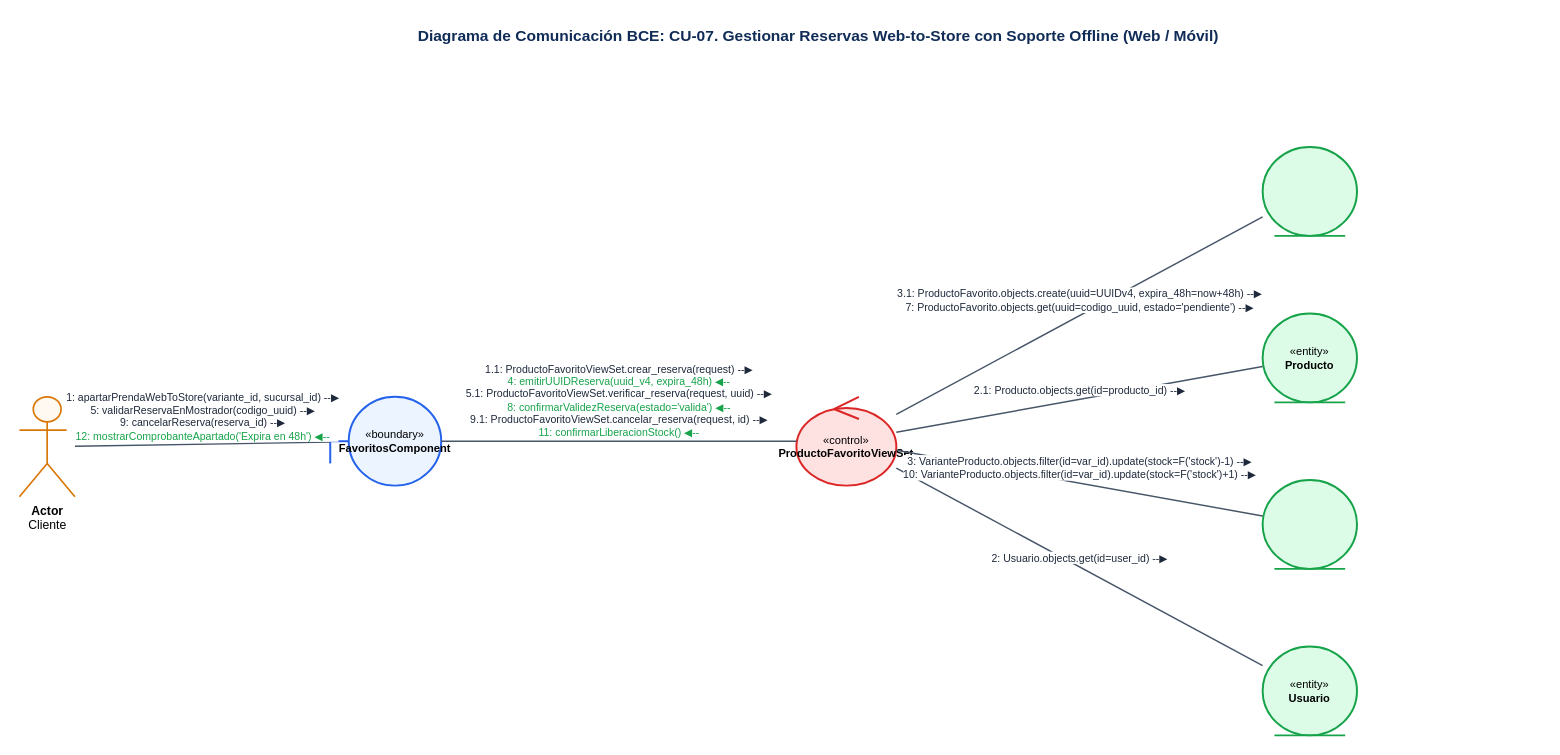
This 1560x755 diagram has some shape labels left out. The centre of each missing label's shape, as x and y in pixels:
"«entity» ProductoFavorito" goes at (1309,191).
"«entity» VarianteProducto" goes at (1309,524).
